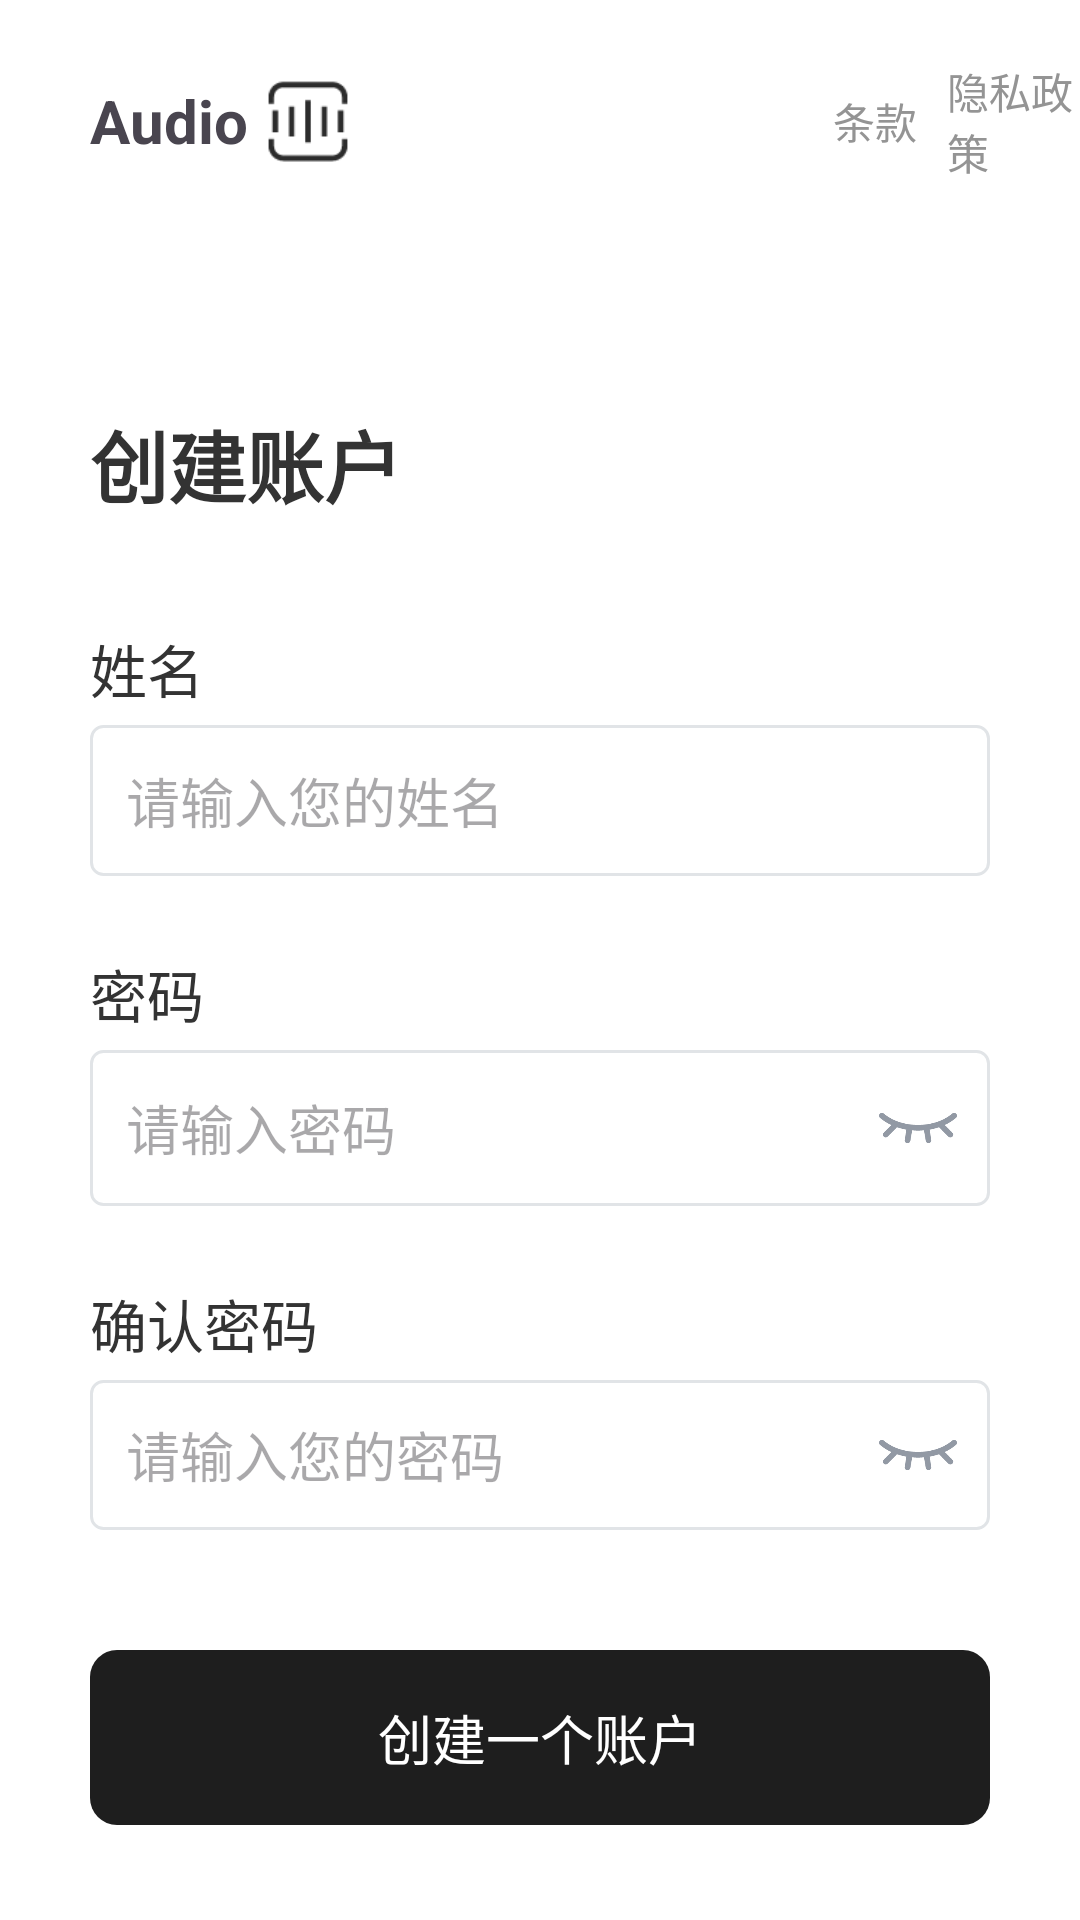

Screen size 1080x1920. Icon name, then its center in pixels as [x,y]:
biyan: [918,1128], [918,1455]
